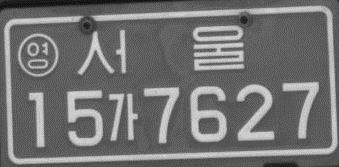1: (24, 88, 51, 149)
2: (234, 82, 276, 143)
5: (65, 88, 105, 147)
6: (188, 84, 228, 143)
7: (280, 78, 320, 141), (140, 85, 182, 144)
가: (106, 91, 139, 143)
서울_D: (75, 22, 248, 77)
영: (17, 30, 61, 77)
